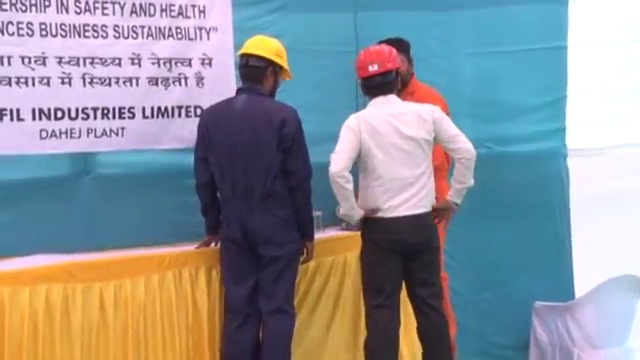helmet: (235, 33, 293, 79), (355, 43, 403, 82)
helmet_off: (386, 36, 416, 90)
helmet_on: (234, 32, 292, 99), (353, 42, 404, 100)
person: (328, 41, 478, 360), (192, 31, 318, 360), (376, 36, 465, 220)
